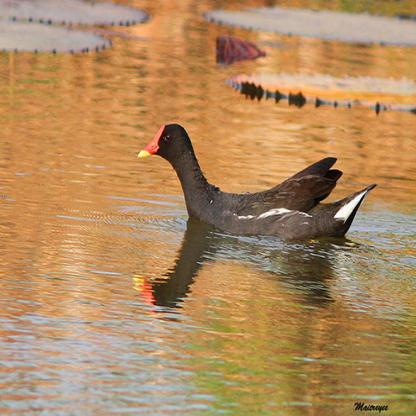Burung: (136, 124, 376, 237)
